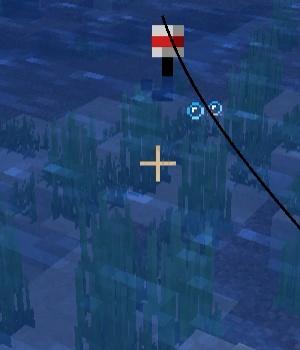up: (138, 11, 193, 106)
